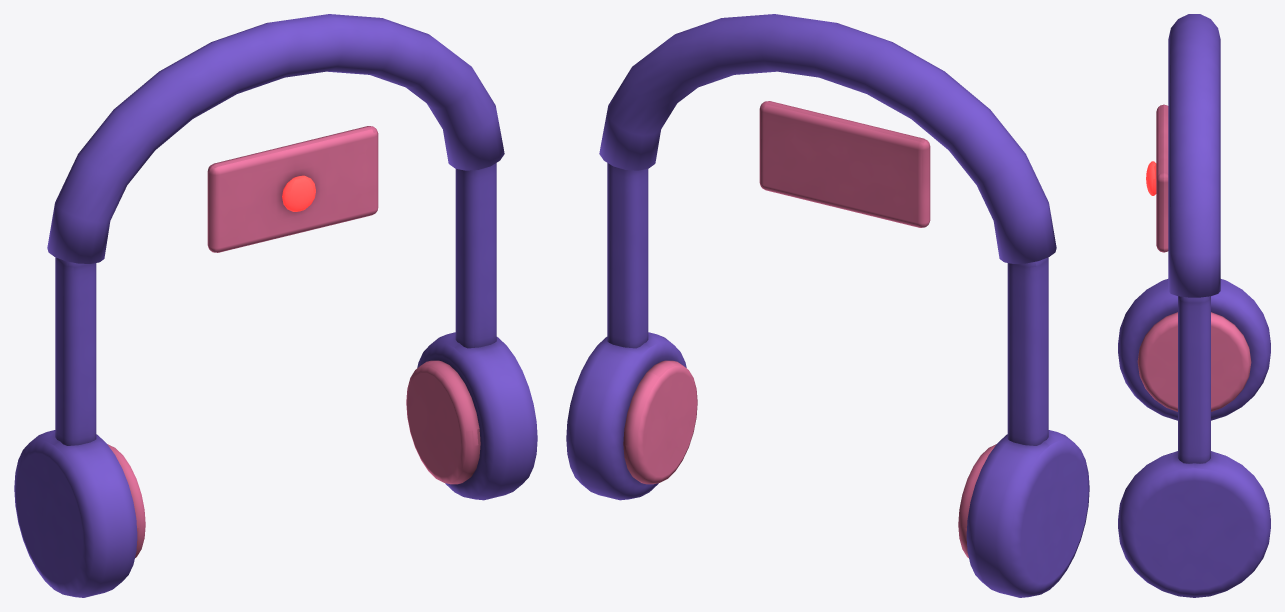
The model's file is GateStudio.fbx.
3 renders of one model, left to right at view 1: azimuth 30°, elevation 25°; view 2: azimuth 150°, elevation 25°; view 3: azimuth 270°, elevation 25°, orthographic. The views are drawn at different scales.
Visible parts, largest first — view 1: GateStudio_Body; view 2: GateStudio_Body; view 3: GateStudio_Body.
Part boxes in pixels (bbox=[...]): GateStudio_Body: bbox=[14, 14, 537, 597]; GateStudio_Body: bbox=[566, 14, 1089, 597]; GateStudio_Body: bbox=[1118, 14, 1270, 597].
Size of the model in its own units: 4.3 by 4.68 by 1.4.
